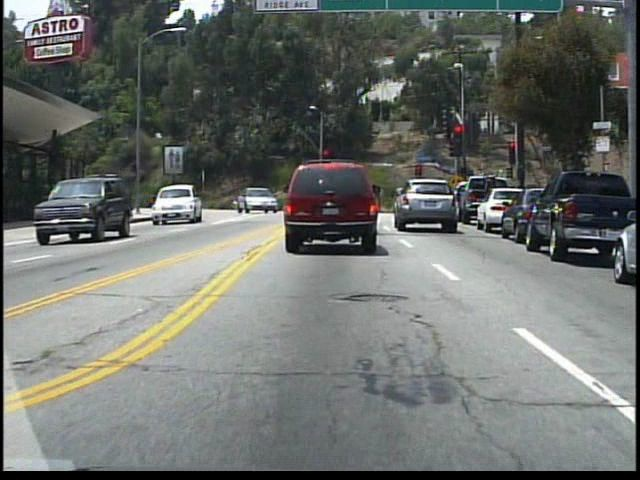person: (235, 187, 248, 212)
